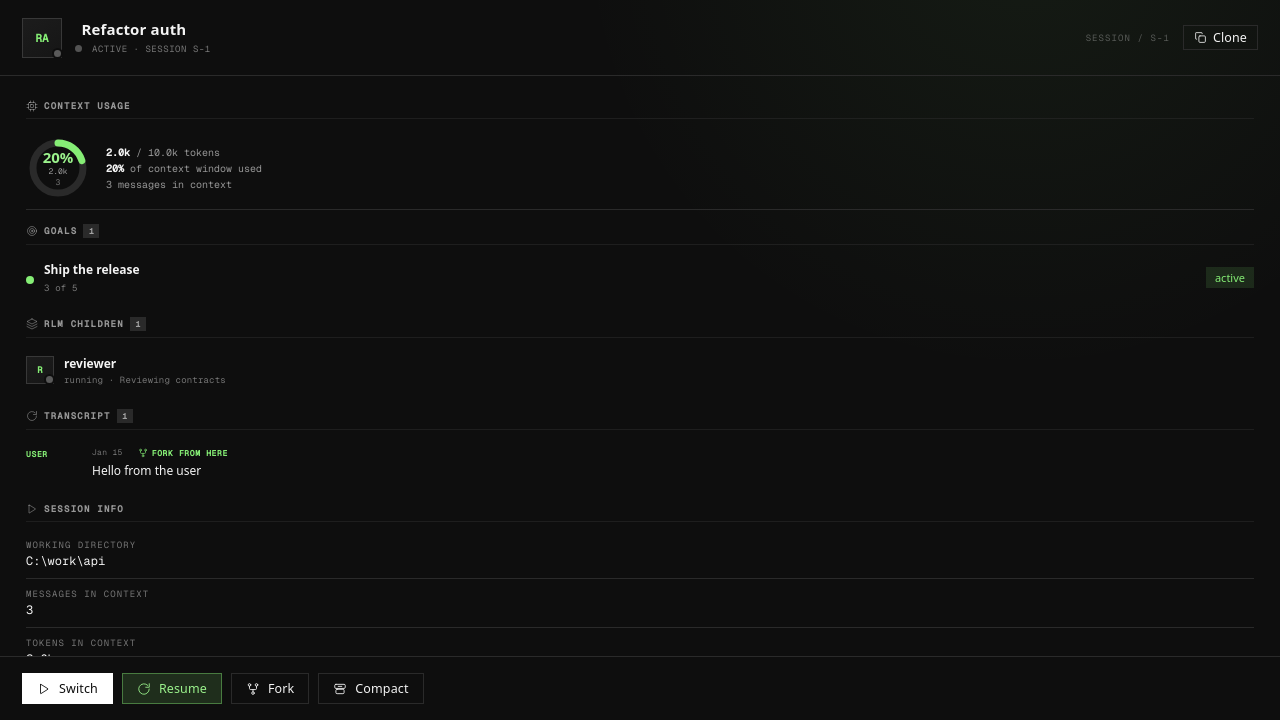
Test: SessionDetail › shows an error block with Retry when a rename fails
The width and height of the screenshot is (1280, 720).
Click the button titled "Rename session": (143, 29) [75,20,211,38]
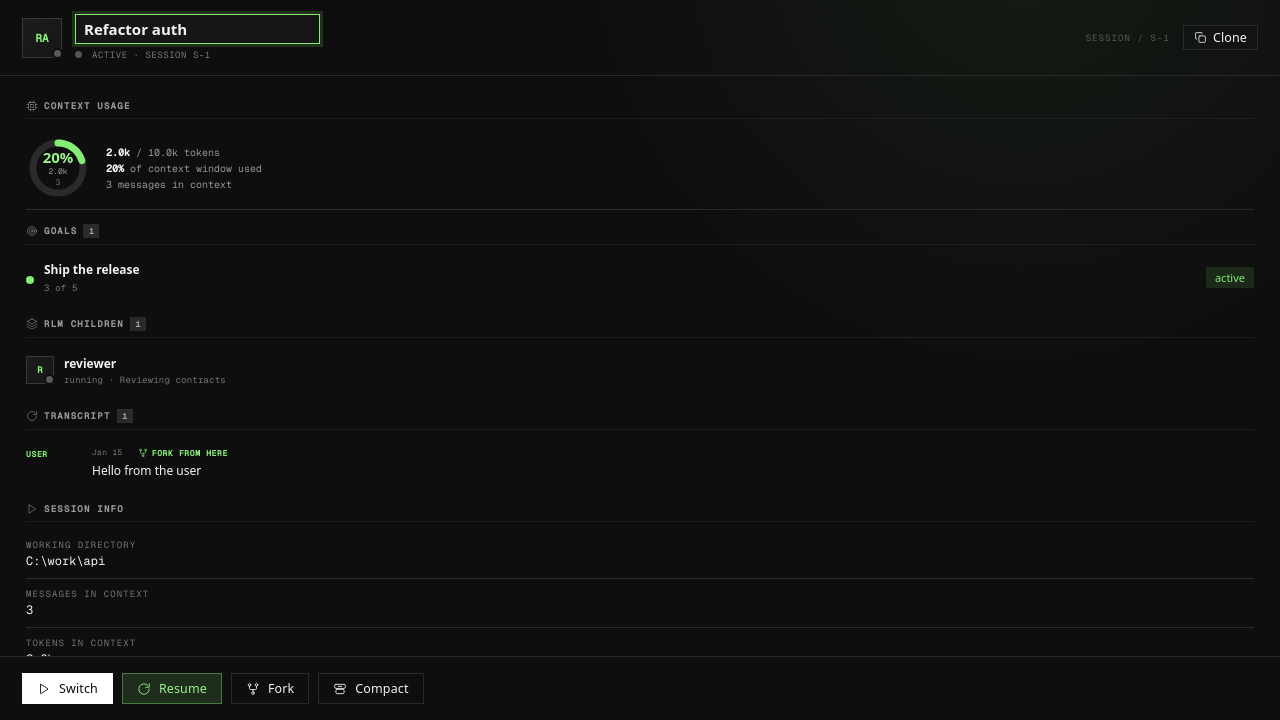
Replace the text in the field showing "Refactor auth" with "Auth v2": (198, 29) [75,14,320,44]
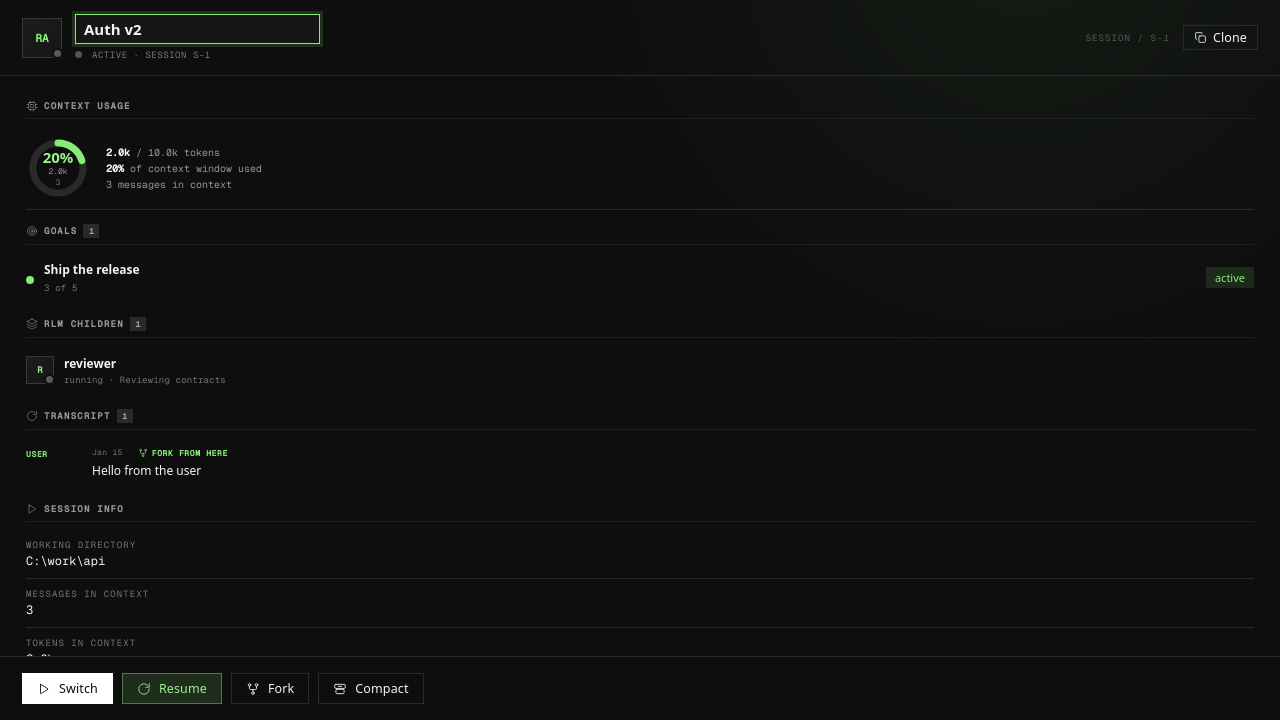
Press Enter
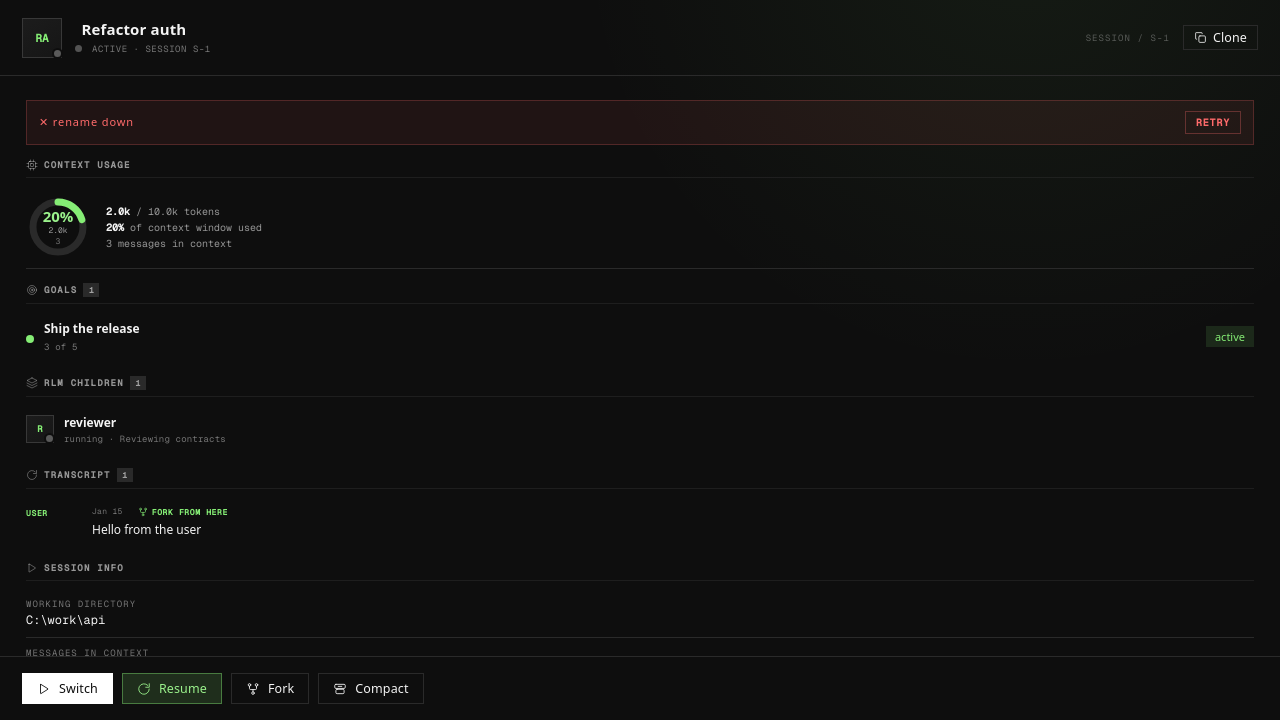
Check: the message "✕ rename down Retry" is shown, box [26,100,1254,145]
Check: the text "✕ rename down" is shown, box [39,114,134,131]
Check: the button "Retry" is shown, box [1185,111,1241,134]
